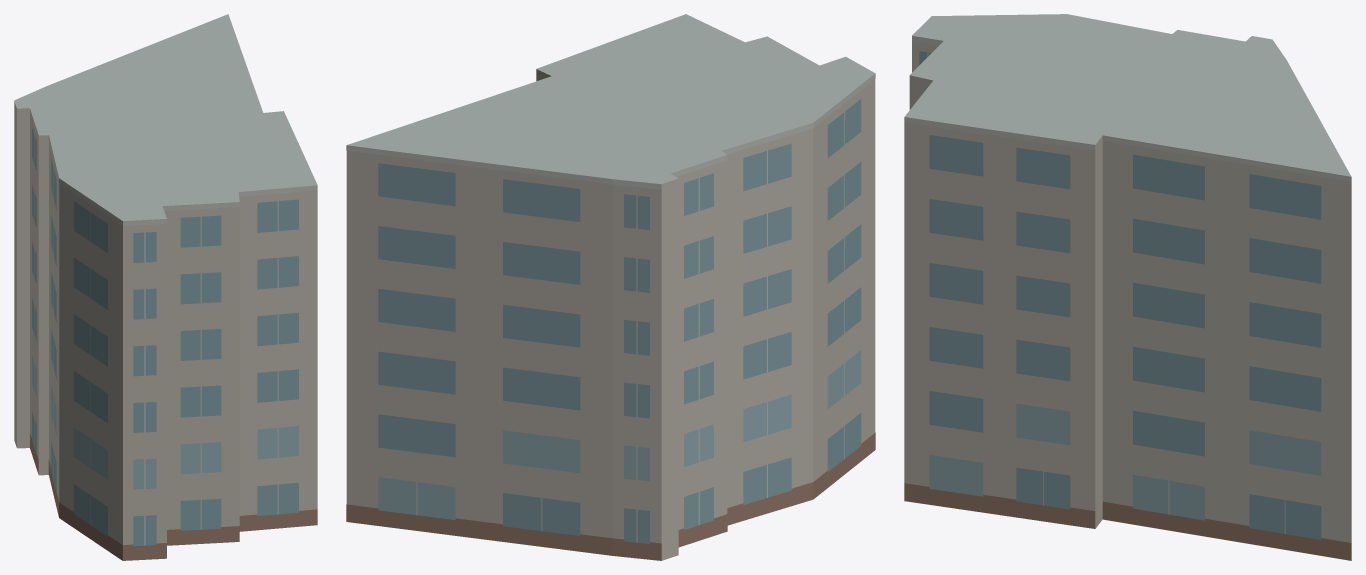
File: survey-upis-32977059.glb
3 renders of one model, left to right at view 1: azimuth 30°, elevation 25°; view 2: azimuth 150°, elevation 25°; view 3: azimuth 270°, elevation 25°, orthographic. The views are drawn at different scales.
Parts seen in each view (by area): view 1: survey-upis-32977059.tmp; view 2: survey-upis-32977059.tmp; view 3: survey-upis-32977059.tmp.
Boxes of the visible parts, x1,y1,x2,y2 form: survey-upis-32977059.tmp: [14, 14, 317, 560]; survey-upis-32977059.tmp: [346, 14, 875, 560]; survey-upis-32977059.tmp: [904, 14, 1351, 560].
Size of the model in its own units: 15.28 by 16.8 by 17.74.
